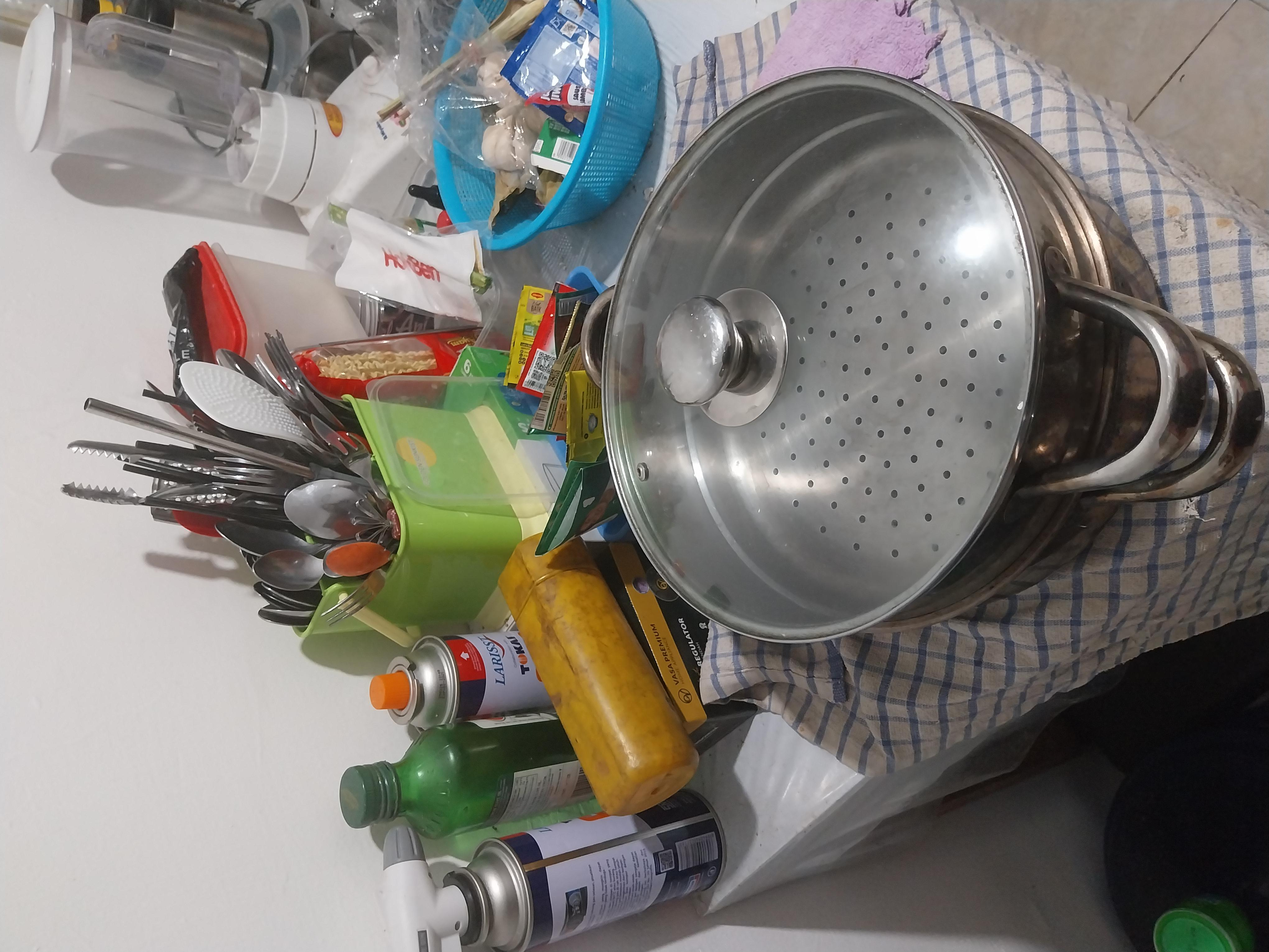bottle: (124, 246, 341, 447)
spoon: (509, 159, 579, 248), (469, 186, 547, 247), (551, 213, 629, 274), (495, 242, 553, 296), (756, 158, 809, 204), (451, 188, 494, 242), (430, 192, 463, 234)
towel: (173, 513, 689, 952), (752, 647, 1269, 952), (1046, 472, 1269, 716), (1070, 480, 1269, 609), (1154, 565, 1269, 709), (1067, 508, 1071, 511), (1064, 506, 1067, 508)
